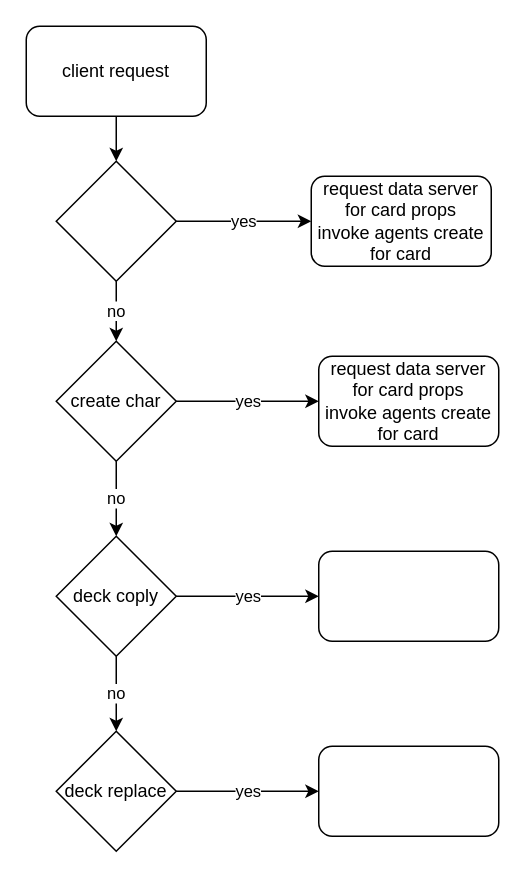
The diagram is 525 pixels wide and 878 high, and some of its shapes have lost their labels. Each missing label, with the centre of its shape:
card placed: pixel 115 220
copy the deck against the user: pixel 408 595
replaced card in the deck against the user: pixel 408 790
